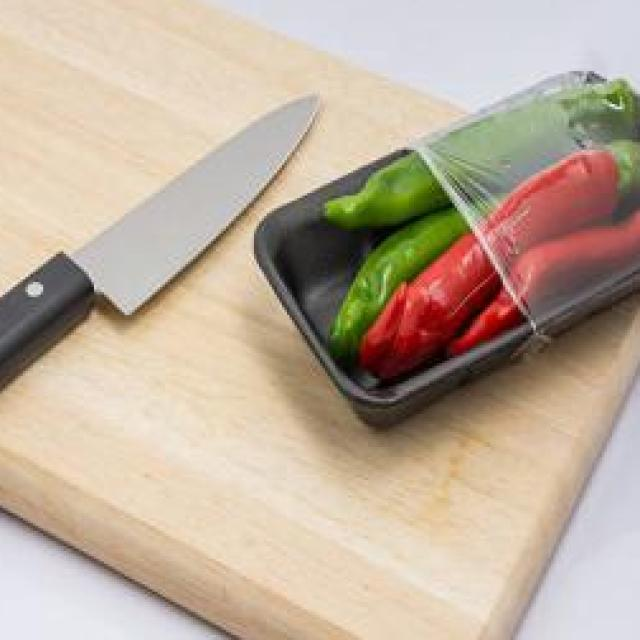knife: (0, 84, 323, 449)
